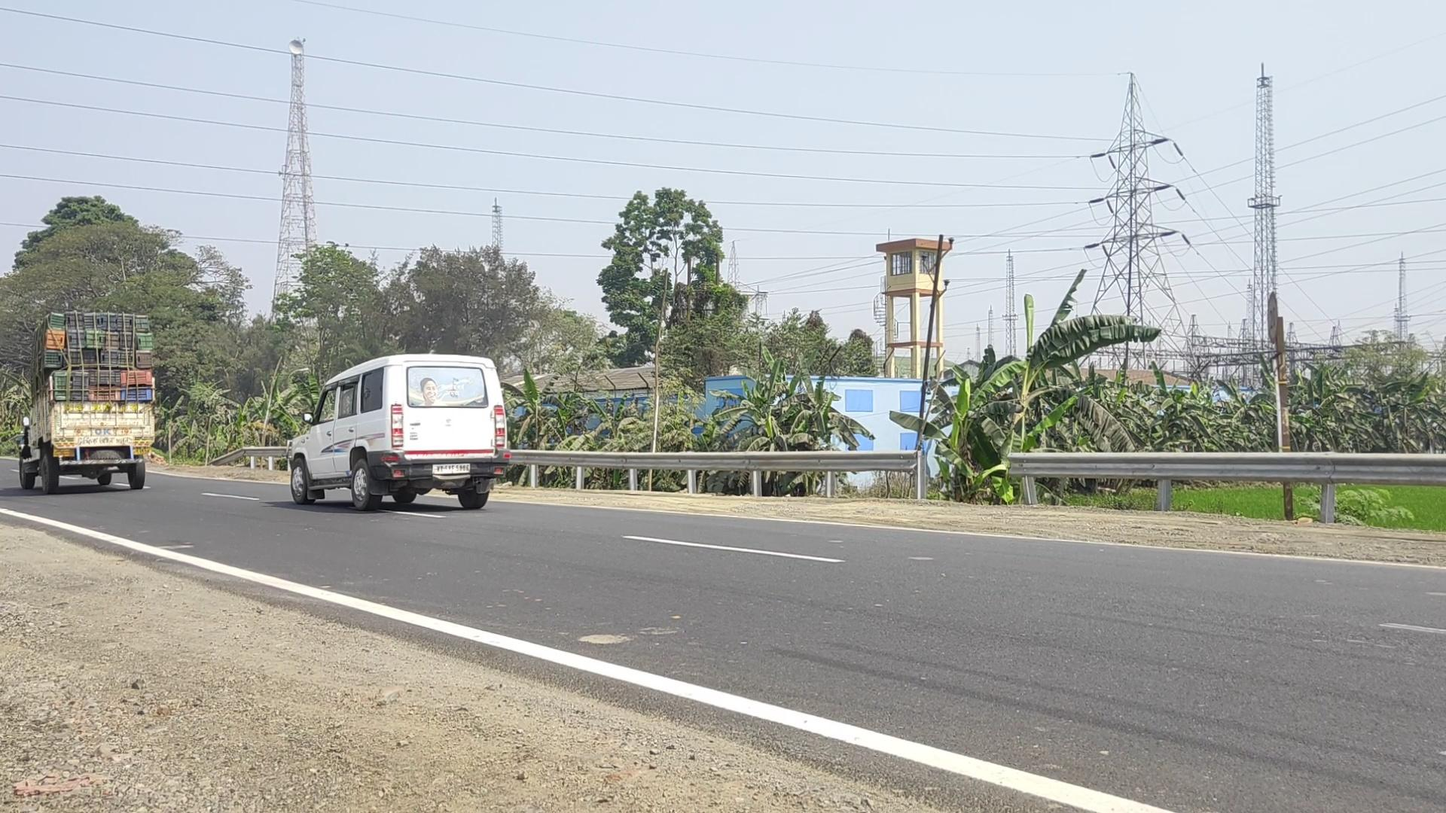car: (285, 354, 511, 513)
van: (17, 311, 155, 494)
